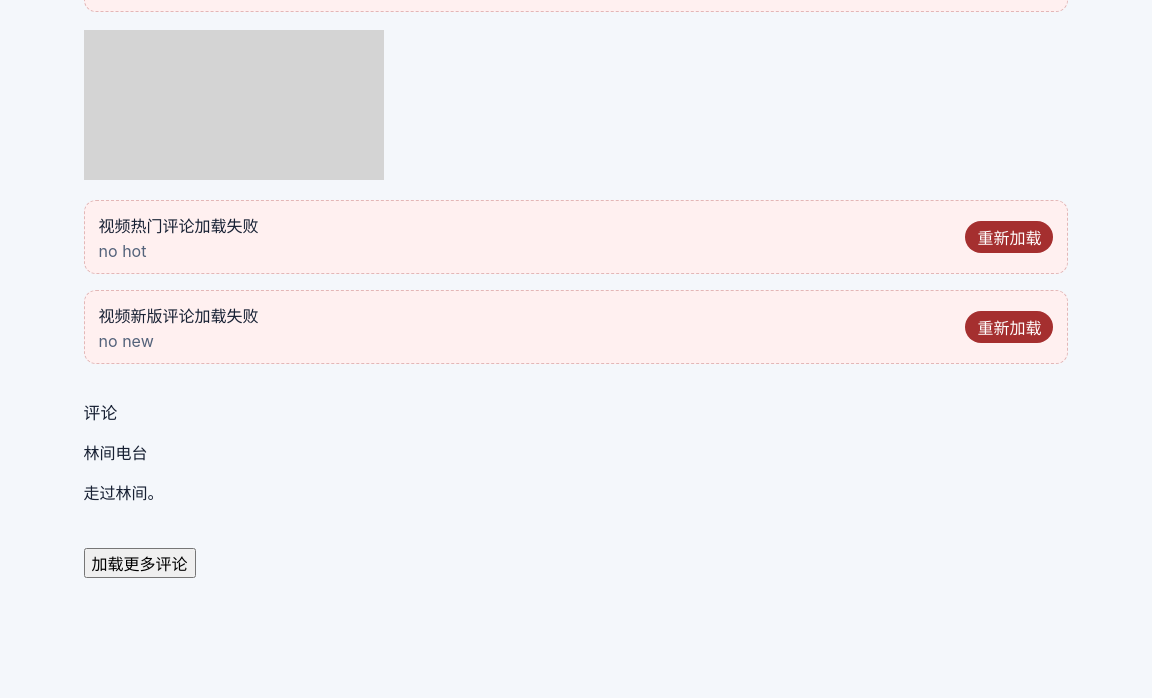
Test: VideoDetailView › loads more comments without dropping the first page
(page scrolled)
Step 1. Click the button with test id "video-comments-more" → x=140, y=563, box x1=84 y1=548 x2=196 y2=578
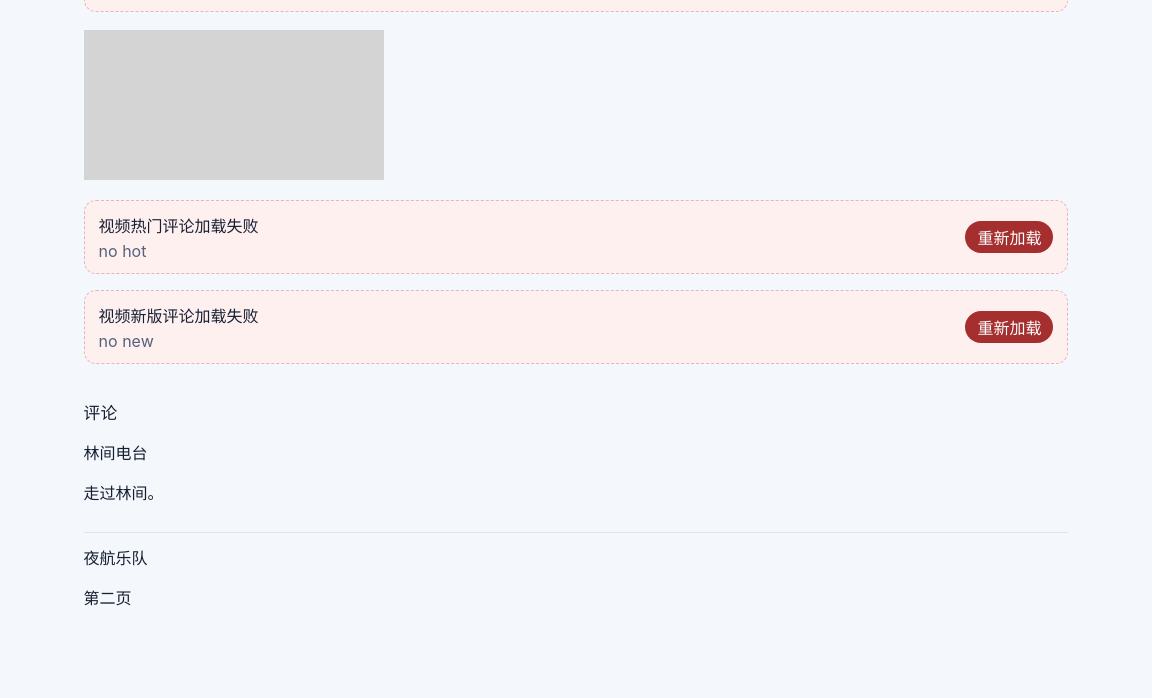
Expected: the element with test id "video-comments" shows "走过林间。", x1=84 y1=483 x2=164 y2=503
Expected: the element with test id "video-comments" shows "第二页", x1=84 y1=588 x2=132 y2=608
